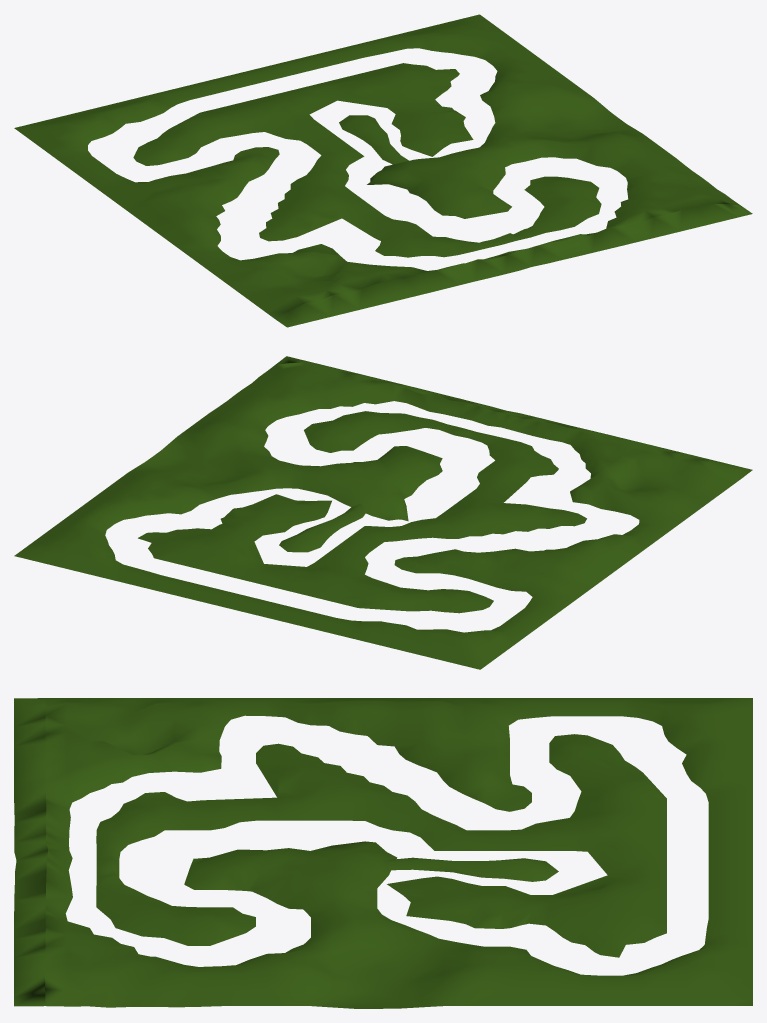
Rendered from forest_terrain.glb.
3 views of the same model, one above another, from view 1: azimuth 30°, elevation 25°; view 2: azimuth 150°, elevation 25°; view 3: azimuth 270°, elevation 25° (orthographic). The views are drawn at different scales.
Parts seen in each view (by area): view 1: forrest-terrain, forrest-terrain-inner; view 2: forrest-terrain, forrest-terrain-inner; view 3: forrest-terrain, forrest-terrain-inner.
Part boxes in pixels (x1=…): forrest-terrain: x1=14, y1=14, x2=752, y2=327; forrest-terrain-inner: x1=133, y1=63, x2=601, y2=257; forrest-terrain: x1=14, y1=356, x2=752, y2=669; forrest-terrain-inner: x1=138, y1=411, x2=586, y2=613; forrest-terrain: x1=14, y1=698, x2=752, y2=1008; forrest-terrain-inner: x1=96, y1=734, x2=666, y2=957.
Bounding box in the file's own units: 546 × 20.29 × 553.
1 material, 1 textured.
